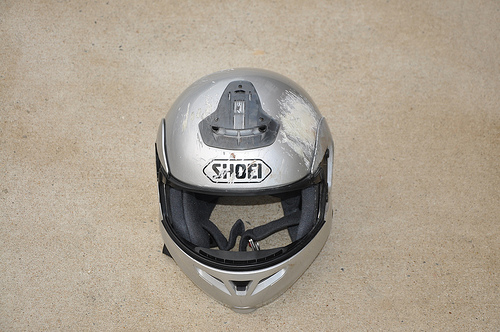helmet: (149, 75, 347, 311)
